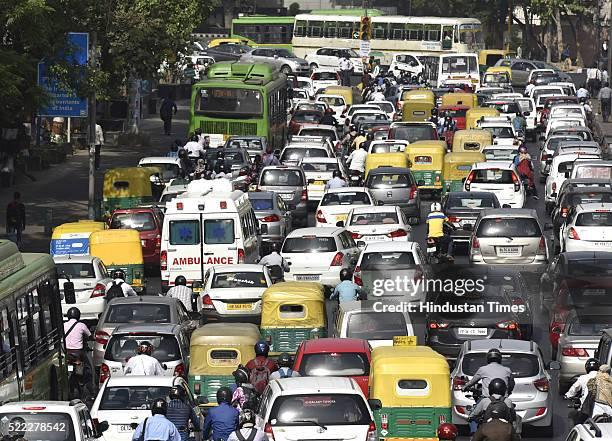ambulance: (165, 187, 252, 267)
